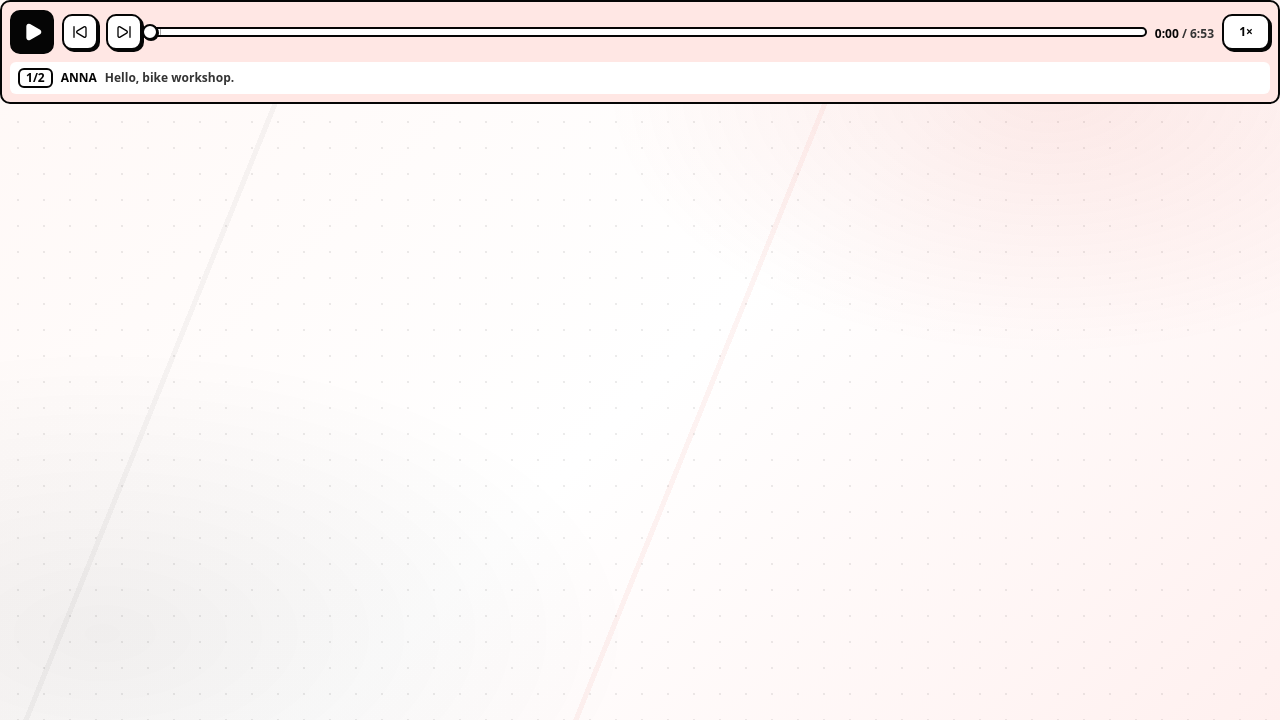
Test: AdminAudioPlayer › steps by line and captions the speaker when the audio is timed
Check: the text "0:00" is shown, box [1155,25,1179,42]
Check: the text "/ 6:53" is shown, box [1179,25,1214,42]
Click the button named "Next line" at (124, 32), box [106,14,142,50]
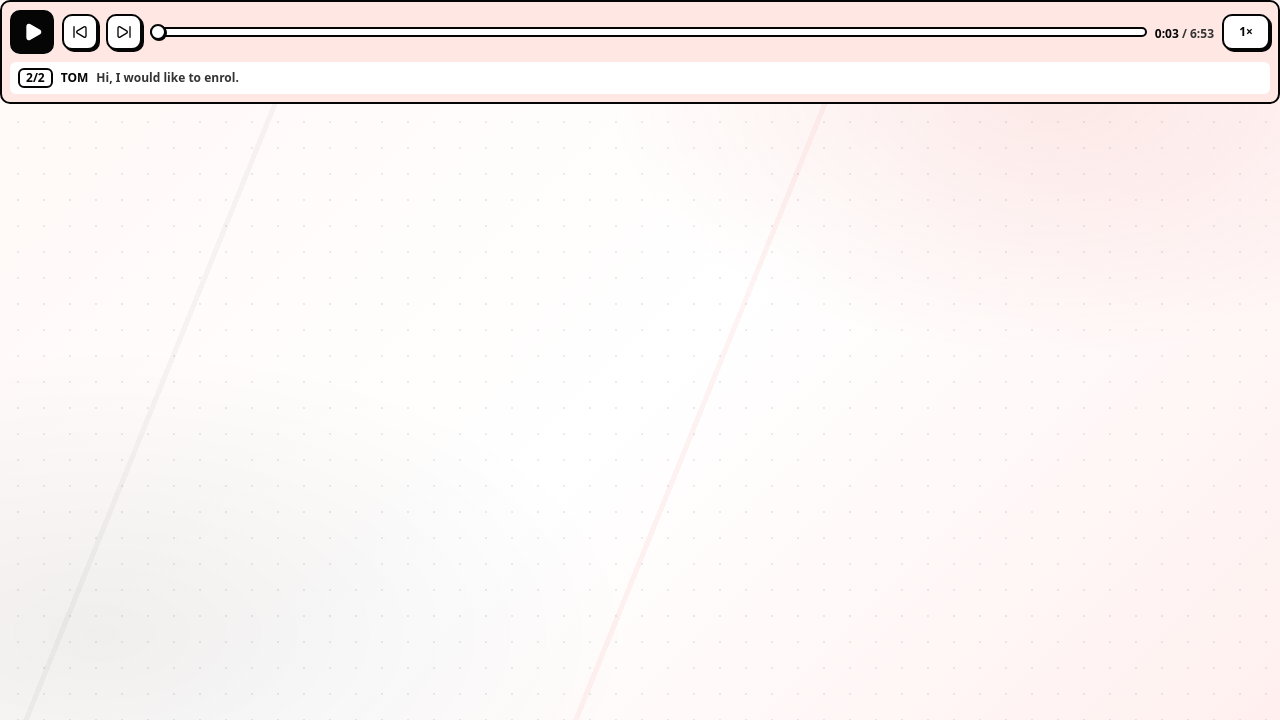
Check: the text "Tom" is shown, box [61,70,88,86]
Check: the text "2/2" is shown, box [18,68,53,88]
